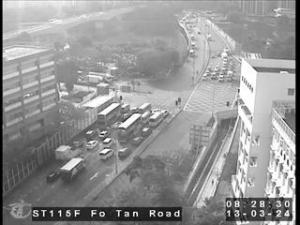bus: (60, 158, 86, 182), (118, 114, 140, 142), (98, 102, 120, 128), (149, 112, 163, 126), (66, 151, 82, 159), (139, 103, 151, 113), (142, 112, 150, 126)
truck: (57, 146, 72, 160), (95, 74, 113, 84), (89, 76, 103, 84), (225, 48, 230, 56), (222, 52, 226, 59), (208, 35, 212, 42)
vehicle: (100, 148, 115, 160), (85, 140, 98, 150), (119, 148, 131, 156), (86, 130, 96, 138), (99, 130, 109, 138), (48, 172, 58, 180), (103, 138, 112, 146), (142, 128, 150, 136), (122, 105, 130, 113), (134, 138, 142, 144), (162, 110, 170, 116), (74, 142, 82, 148), (212, 74, 216, 80), (202, 76, 208, 80), (219, 78, 223, 82), (228, 77, 232, 81)
